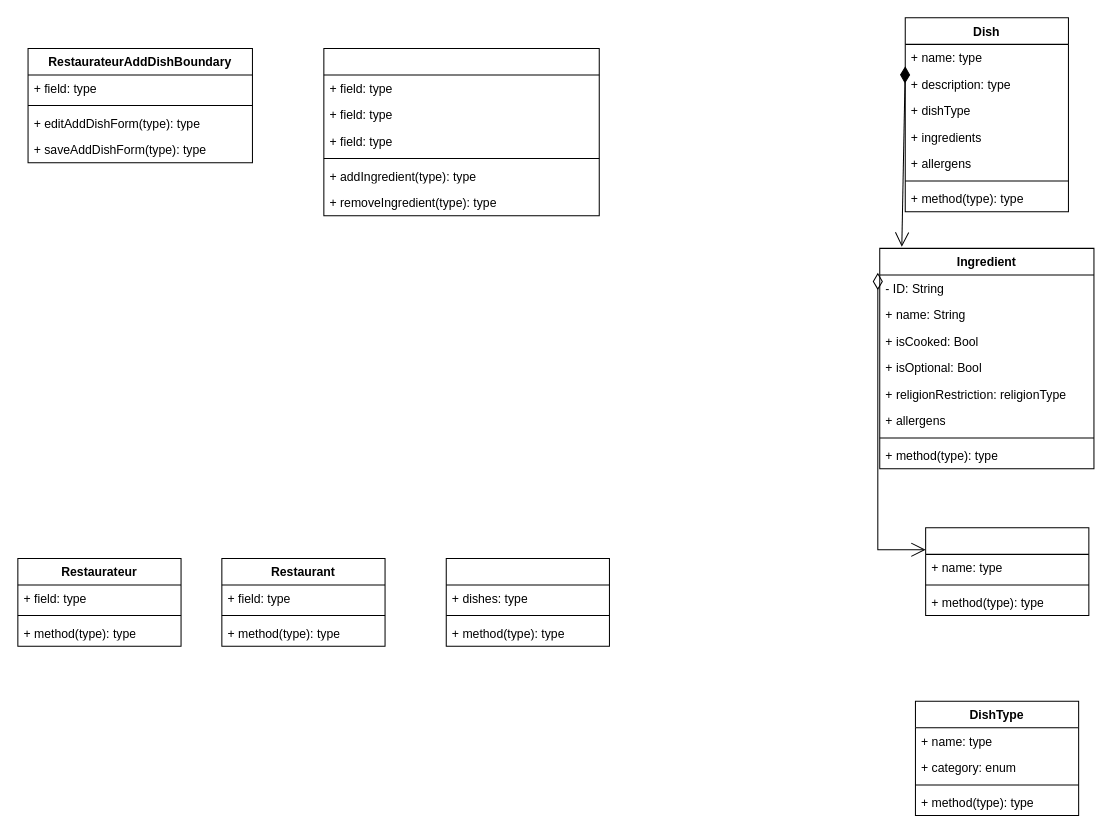
This 1112x836 diagram has some shape labels left out. The box of each missing label's shape, as (x1, y1, x2, y2) in pixels:
AddDishController: (323, 47, 599, 216)
Allergen: (925, 527, 1089, 616)
Menu: (445, 557, 609, 646)
